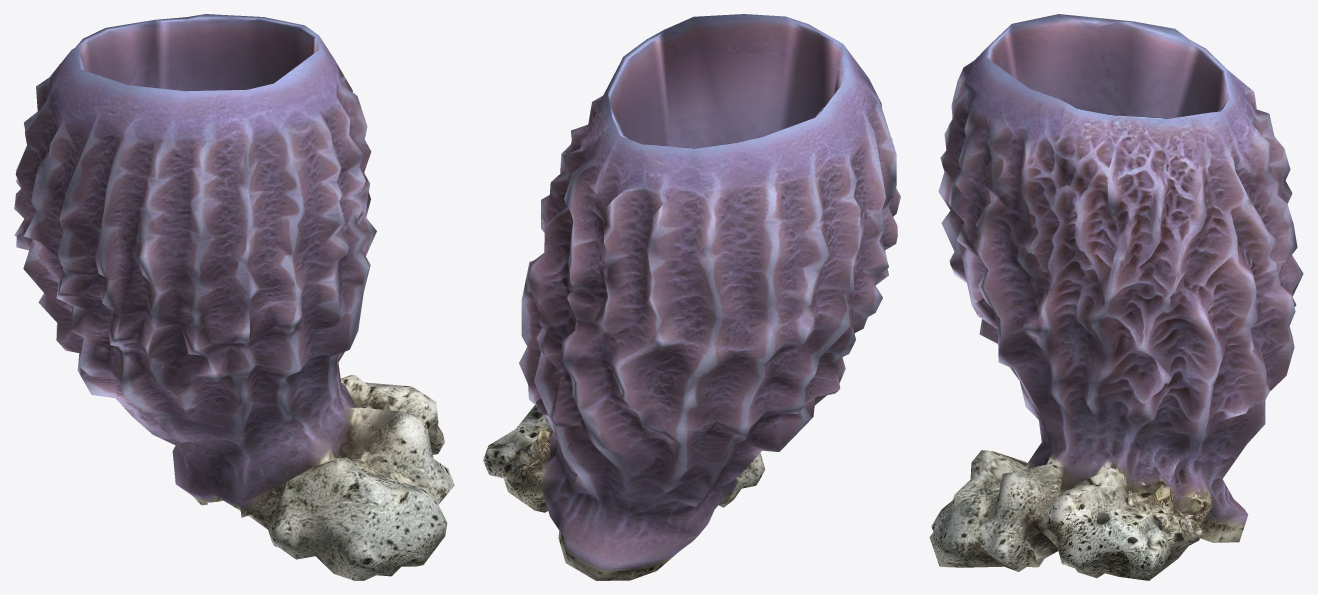
File: vaasspons.glb
3 renders of one model, left to right at view 1: azimuth 30°, elevation 25°; view 2: azimuth 150°, elevation 25°; view 3: azimuth 270°, elevation 25°, orthographic. The views are drawn at different scales.
Parts seen in each view (by area): view 1: tripo_node_f7588404-c586-40fd-8630-85893d1f6135; view 2: tripo_node_f7588404-c586-40fd-8630-85893d1f6135; view 3: tripo_node_f7588404-c586-40fd-8630-85893d1f6135.
Boxes of the visible parts, bbox=[...] form: tripo_node_f7588404-c586-40fd-8630-85893d1f6135: bbox=[14, 14, 454, 580]; tripo_node_f7588404-c586-40fd-8630-85893d1f6135: bbox=[483, 14, 900, 580]; tripo_node_f7588404-c586-40fd-8630-85893d1f6135: bbox=[929, 14, 1303, 580].
Size of the model in its own units: 0.1581 by 0.2 by 0.146.
Materials: 1 (1 with a texture image).
